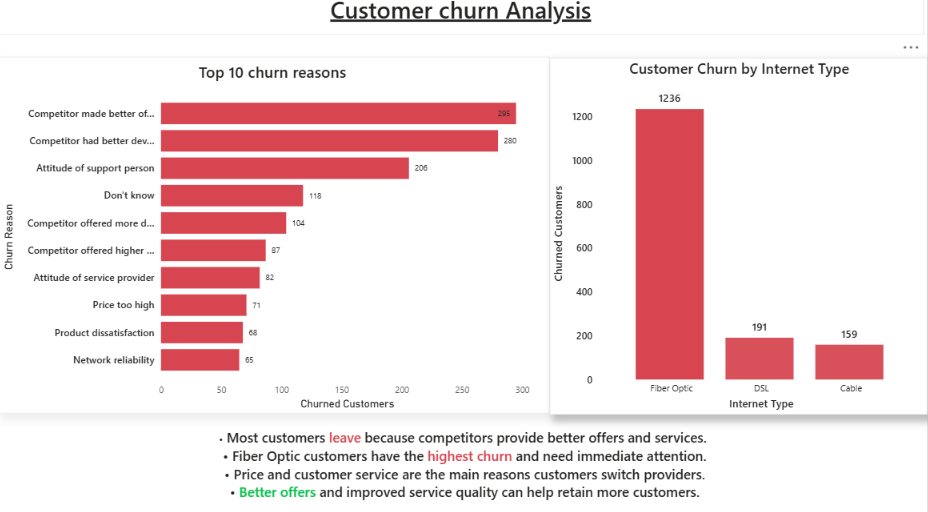

The page's visual inventory and layout, read from the dashboard file:
{"tool":"powerbi","page":{"name":"customer churn analysis","canvas":[1280,720],"ordinal":1},"visuals":[{"type":"textbox","box":[4.7,0,1270.5,62.4],"z":0},{"type":"textbox","box":[4.1,596.9,1276.2,123.5],"z":1000},{"type":"clusteredBarChart","title":"Top 10 churn reasons","fields":{"Category":["telecom_customer_churn.Churn Reason"],"Y":["_Measures.Churned Customers"]},"box":[4.1,91.9,757.5,489.9],"z":2000},{"type":"clusteredColumnChart","title":"Customer Churn by Internet Type","fields":{"Category":["telecom_customer_churn.Internet Type"],"Y":["_Measures.Churned Customers"]},"box":[761.6,93.3,518.7,489.9],"z":3000}]}

Visuals, with their boxes in screenshot pixels (x1, y1, x2, y2), scaled from the page's 1280x720 canvas onto the 928x512 screenshot:
textbox: bbox=(3, 0, 925, 44)
textbox: bbox=(3, 424, 927, 511)
"Top 10 churn reasons" clusteredBarChart: bbox=(3, 65, 552, 414)
"Customer Churn by Internet Type" clusteredColumnChart: bbox=(552, 66, 927, 415)
